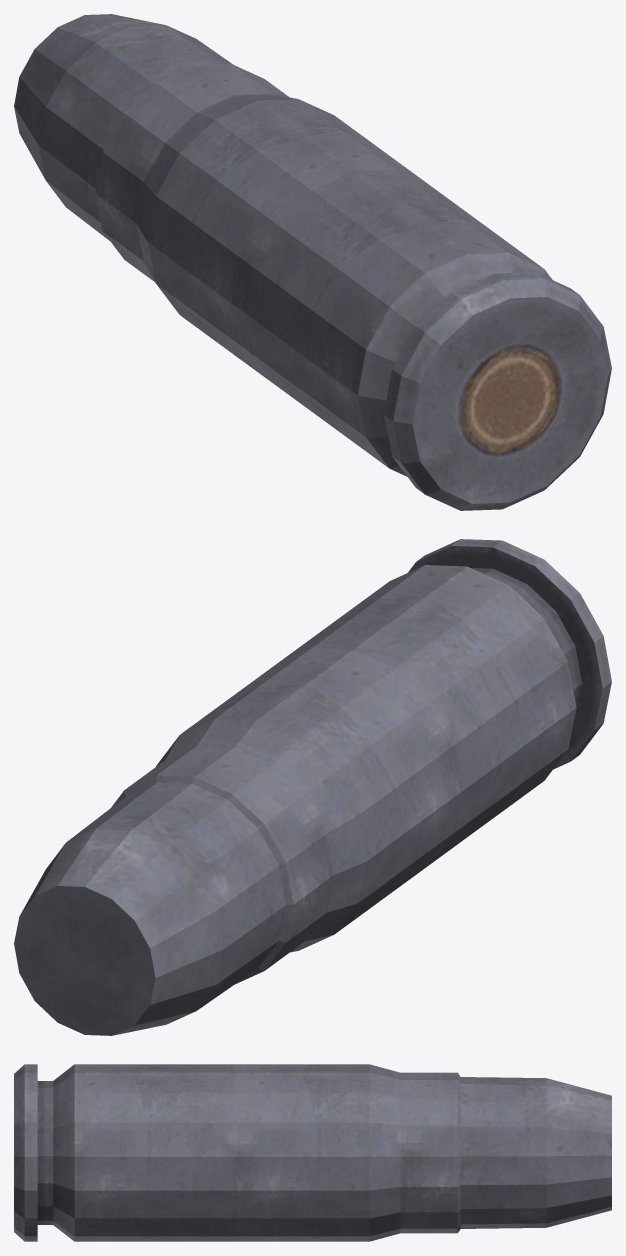
3 renders of one model, top to bottom at view 1: azimuth 30°, elevation 25°; view 2: azimuth 150°, elevation 25°; view 3: azimuth 270°, elevation 25°, orthographic. The views are drawn at different scales.
Visible parts, largest first — view 1: TW_5735ff5c245977640e39ba7e_PZ_Import; view 2: TW_5735ff5c245977640e39ba7e_PZ_Import; view 3: TW_5735ff5c245977640e39ba7e_PZ_Import.
Boxes of the visible parts, x1,y1,x2,y2 form: TW_5735ff5c245977640e39ba7e_PZ_Import: [14, 14, 611, 510]; TW_5735ff5c245977640e39ba7e_PZ_Import: [14, 539, 611, 1035]; TW_5735ff5c245977640e39ba7e_PZ_Import: [14, 1064, 611, 1241].
Size of the model in its own units: 0.00575 by 0.0194 by 0.00575.
1 material, 1 textured.
